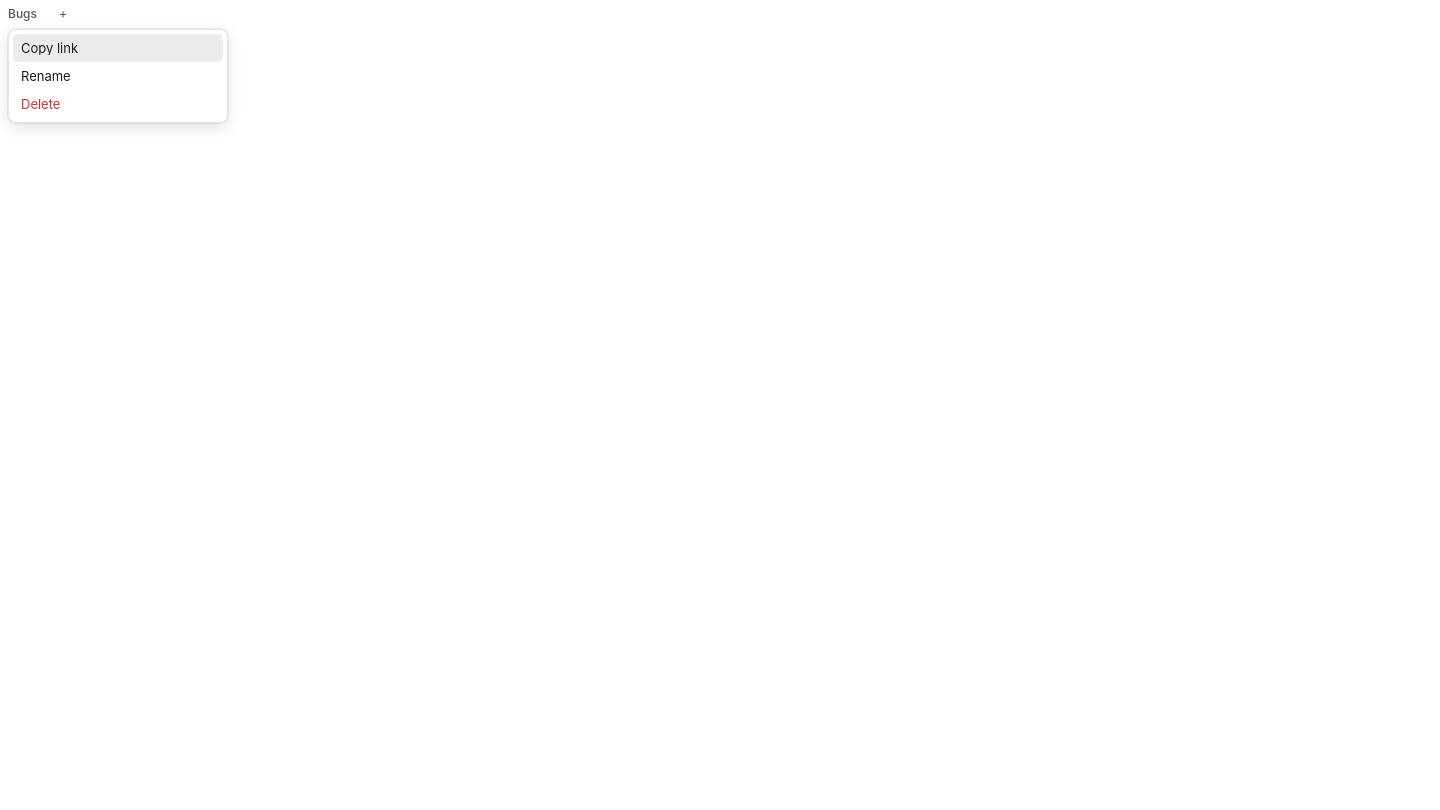
Scenario: discarding a view rename › asks once the name has been changed
Click the menu item "Rename".
click(46, 76)  # box [21,68,71,84]
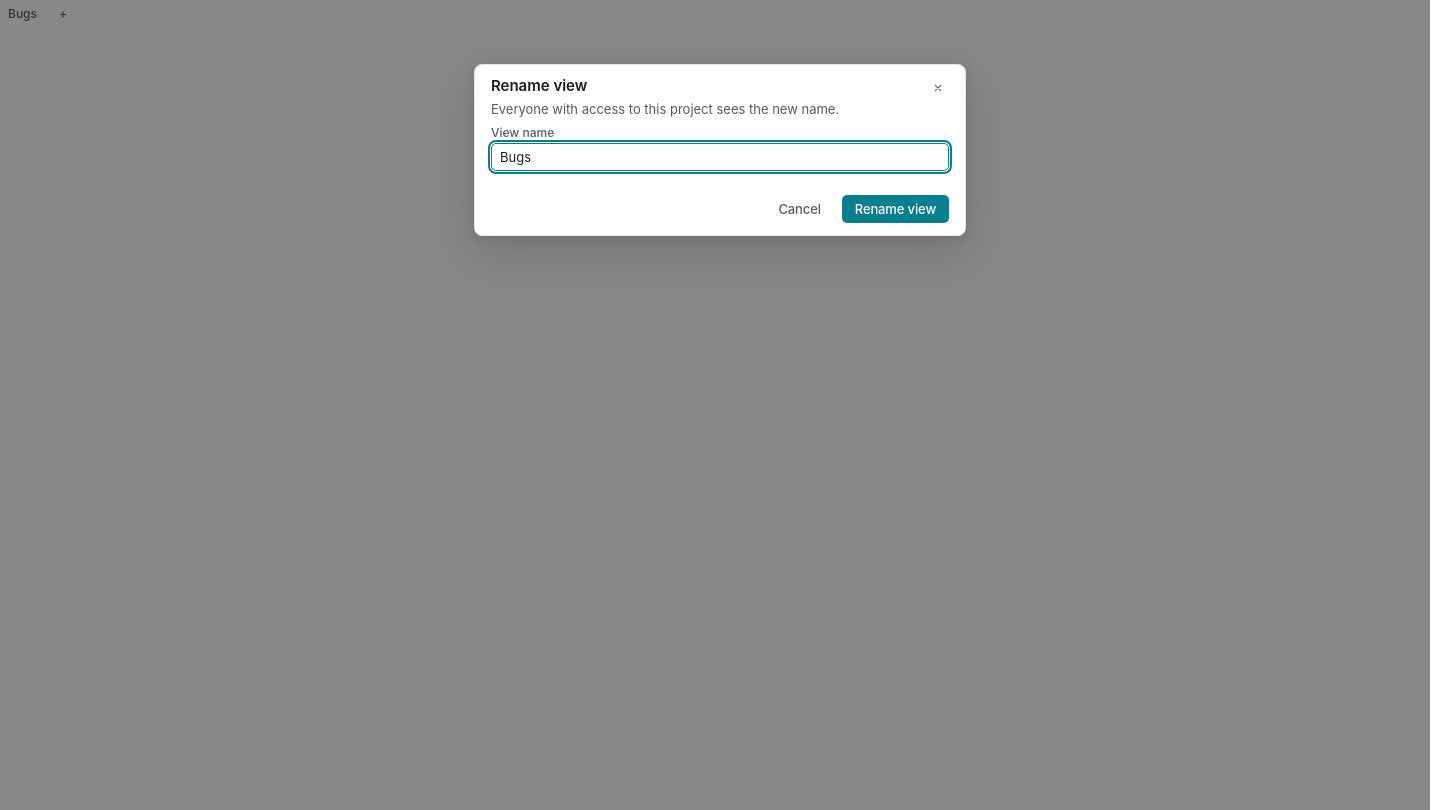
Check: the dialog "Rename view" is shown, box [474,64,966,236]
Type "ness" into the field labelled "View name".
click(720, 157); type("ness")  # box [500,144,940,170]
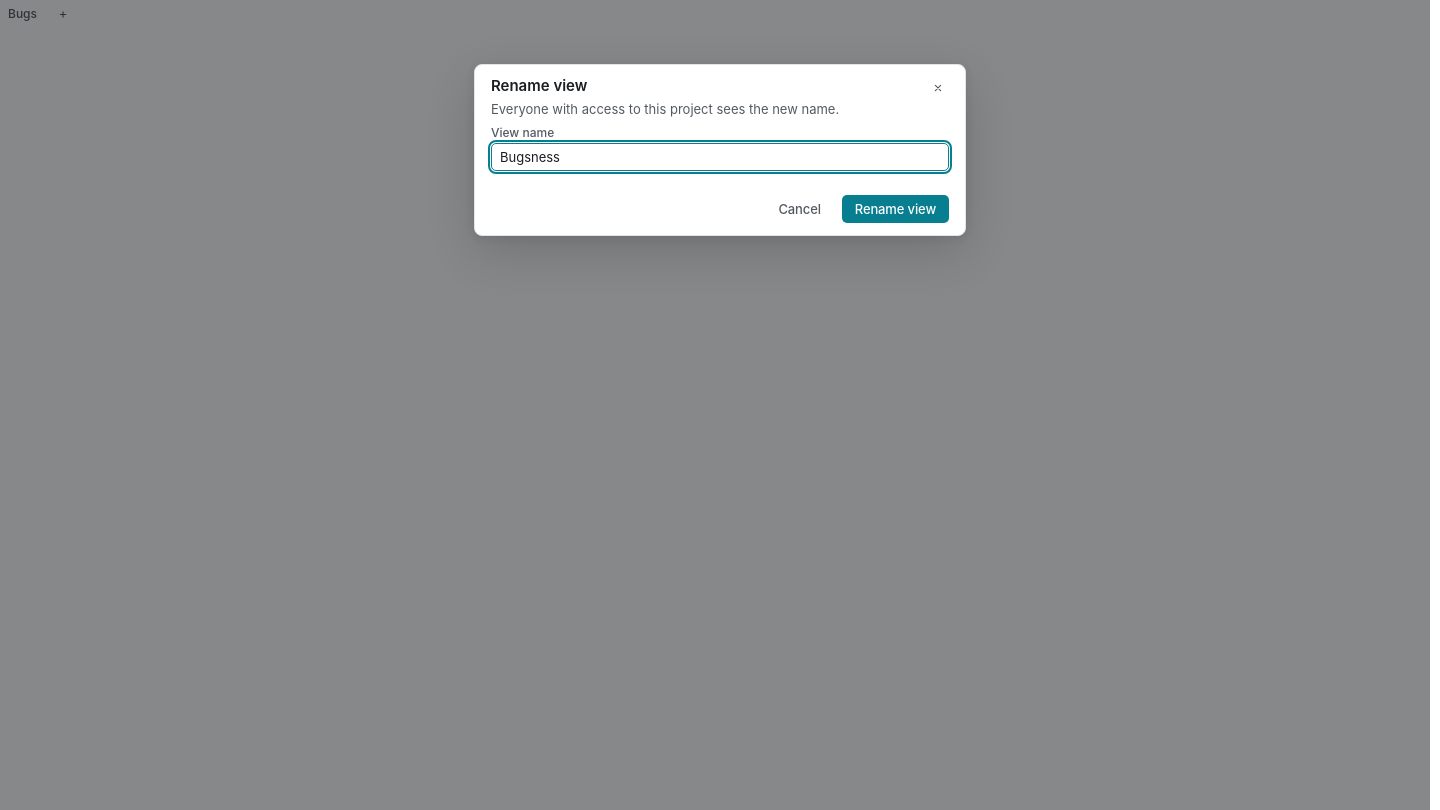
Press Escape
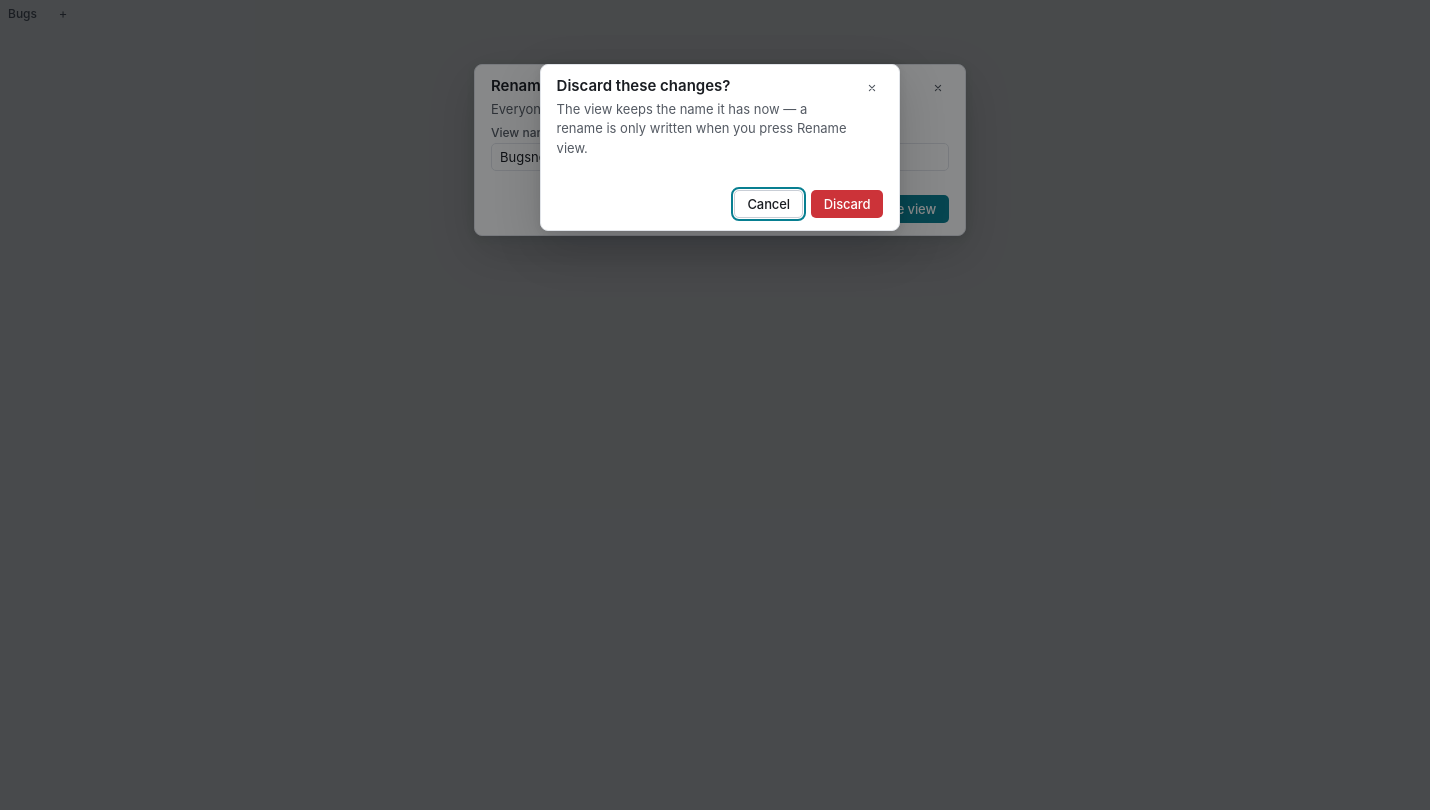
Check: the dialog "Rename view" is shown, box [474,64,966,236]
Check: the dialog "Discard these changes?" is shown, box [540,64,900,231]
